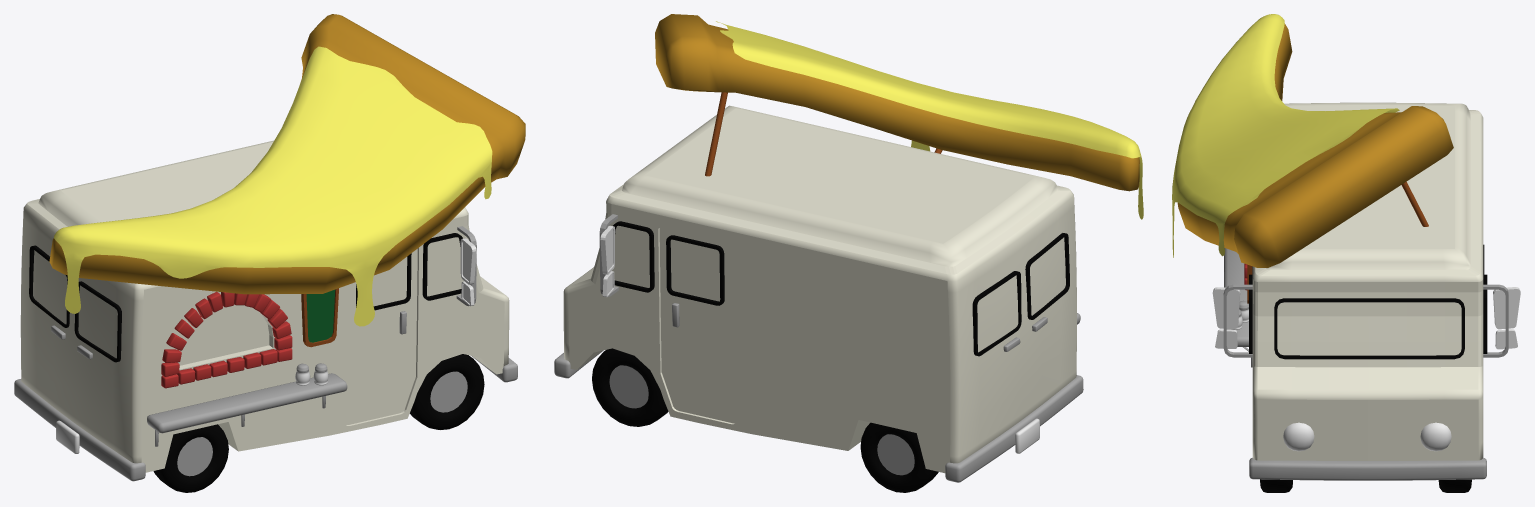
The model's file is COMBINED food vendor truck.fbx.
3 views of the same model, side by side, from view 1: azimuth 30°, elevation 25°; view 2: azimuth 150°, elevation 25°; view 3: azimuth 270°, elevation 25° (orthographic). The views are drawn at different scales.
Visible parts, largest first — view 1: Truck; view 2: Truck; view 3: Truck.
Boxes of the visible parts, <box> form: Truck: <box>14,14,525,492</box>; Truck: <box>554,14,1143,492</box>; Truck: <box>1172,14,1520,492</box>.
Bounding box in the file's own units: 1734 × 1301 × 1130.
